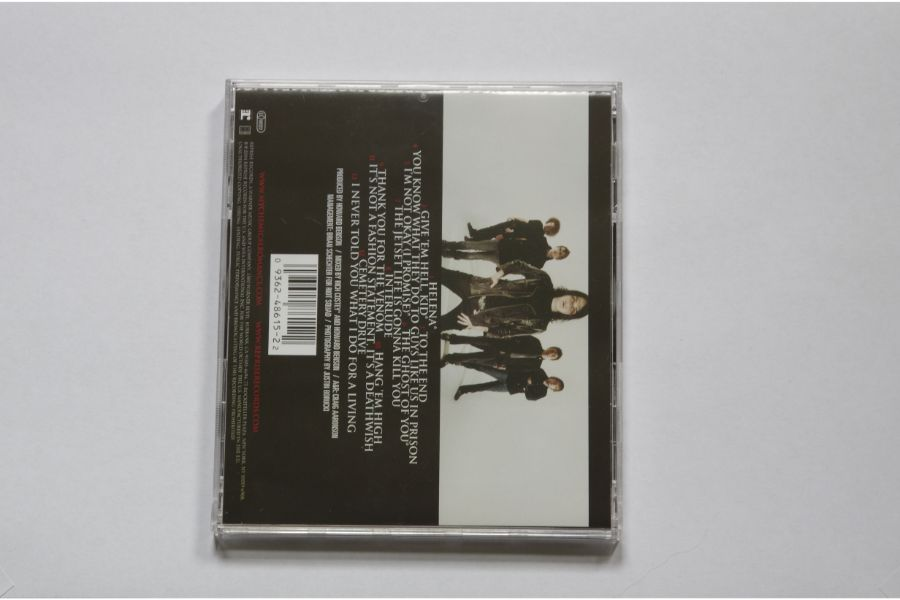album: (215, 78, 626, 545)
